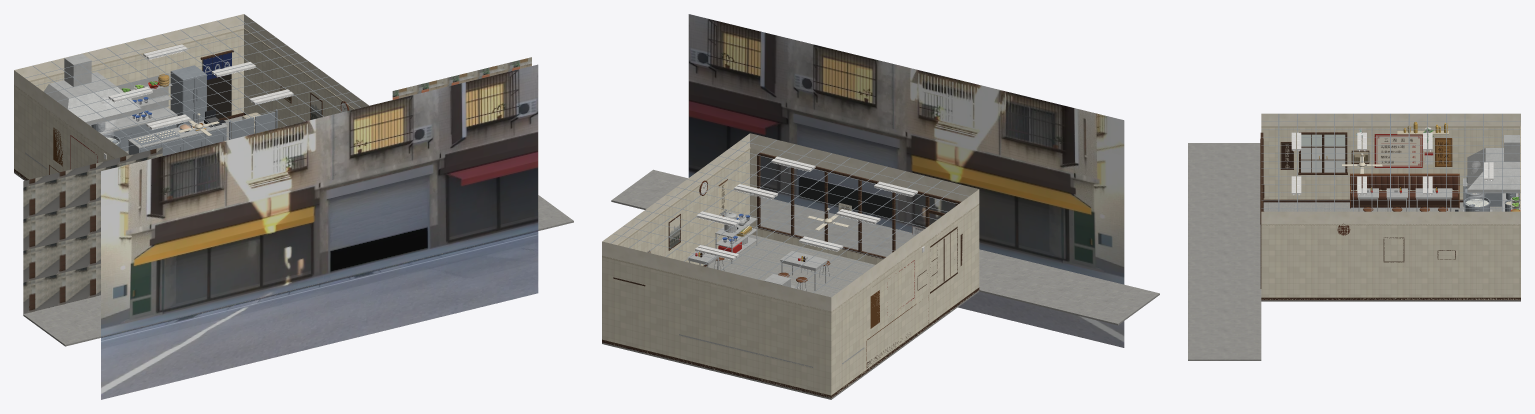
Rendered from l118_home.glb.
The picture shows the model from 3 angles, left to right: view 1: azimuth 30°, elevation 25°; view 2: azimuth 150°, elevation 25°; view 3: azimuth 270°, elevation 25°; orthographic projection. The views are drawn at different scales.
Parts seen in each view (by area): view 1: WALL_S_view, WALL_W_nb_view, WALL_N_ksteel_cc0, WALL_N_kmetal_alu, WALL_W_wain, WALL_E_wain, l118_home_ceilgrid, WALL_N_wain, l118_home_paving, WALL_N_wall, WALL_N_kitchen, WALL_E_wall (+4 smaller); view 2: WALL_S_view, WALL_N_wain, l118_home_paving, WALL_W_wain, WALL_S_glass, WALL_E_wain, l118_home_ceilgrid, l118_home_floorm, WALL_S_wall, WALL_N_wall, WALL_W_wall, l118_home_plastic_w (+10 smaller); view 3: WALL_E_wain, l118_home_paving, WALL_W_wain, l118_home_ceilgrid, WALL_E_wall, WALL_W_wall, WALL_W_trim, WALL_N_ksteel_cc0, WALL_W_iprint, l118_home_props, l118_home_floorm, WALL_W_trim_wood_d (+9 smaller).
Part boxes in pixels (x1,y1,x2,y2): WALL_S_view: [101, 64, 538, 399]; WALL_W_nb_view: [23, 147, 162, 314]; WALL_N_ksteel_cc0: [25, 54, 227, 169]; WALL_N_kmetal_alu: [91, 65, 277, 155]; WALL_W_wain: [14, 86, 113, 179]; WALL_E_wain: [244, 30, 352, 128]; l118_home_ceilgrid: [25, 16, 361, 152]; WALL_N_wain: [31, 30, 243, 115]; l118_home_paving: [23, 195, 573, 346]; WALL_N_wall: [14, 14, 243, 80]; WALL_N_kitchen: [106, 55, 260, 144]; WALL_E_wall: [244, 14, 368, 108]; WALL_S_view: [688, 14, 1124, 347]; WALL_N_wain: [602, 257, 831, 397]; l118_home_paving: [611, 169, 1159, 325]; WALL_W_wain: [831, 205, 979, 397]; WALL_S_glass: [760, 157, 954, 256]; WALL_E_wain: [619, 150, 749, 265]; l118_home_ceilgrid: [610, 135, 968, 292]; l118_home_floorm: [602, 234, 979, 399]; WALL_S_wall: [750, 133, 978, 201]; WALL_N_wall: [602, 241, 831, 311]; WALL_W_wall: [831, 189, 979, 311]; l118_home_plastic_w: [695, 156, 924, 260]; WALL_E_wain: [1261, 225, 1520, 299]; l118_home_paving: [1188, 143, 1261, 360]; WALL_W_wain: [1261, 127, 1520, 199]; l118_home_ceilgrid: [1261, 113, 1520, 211]; WALL_E_wall: [1261, 211, 1520, 224]; WALL_W_wall: [1261, 113, 1520, 126]; WALL_W_trim: [1261, 126, 1520, 172]; WALL_N_ksteel_cc0: [1462, 135, 1520, 211]; WALL_W_iprint: [1281, 135, 1451, 169]; l118_home_props: [1342, 130, 1458, 211]; l118_home_floorm: [1261, 202, 1520, 301]; WALL_W_trim_wood_d: [1263, 132, 1463, 202].
Bounding box in the file's own units: 16.8 × 7.22 × 10.9.
24 materials, 20 textured.
